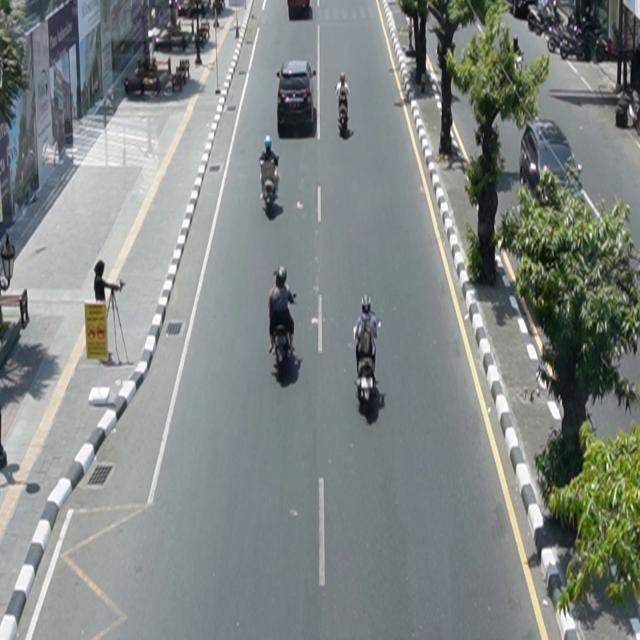car: (520, 118, 583, 205), (277, 60, 317, 137)
